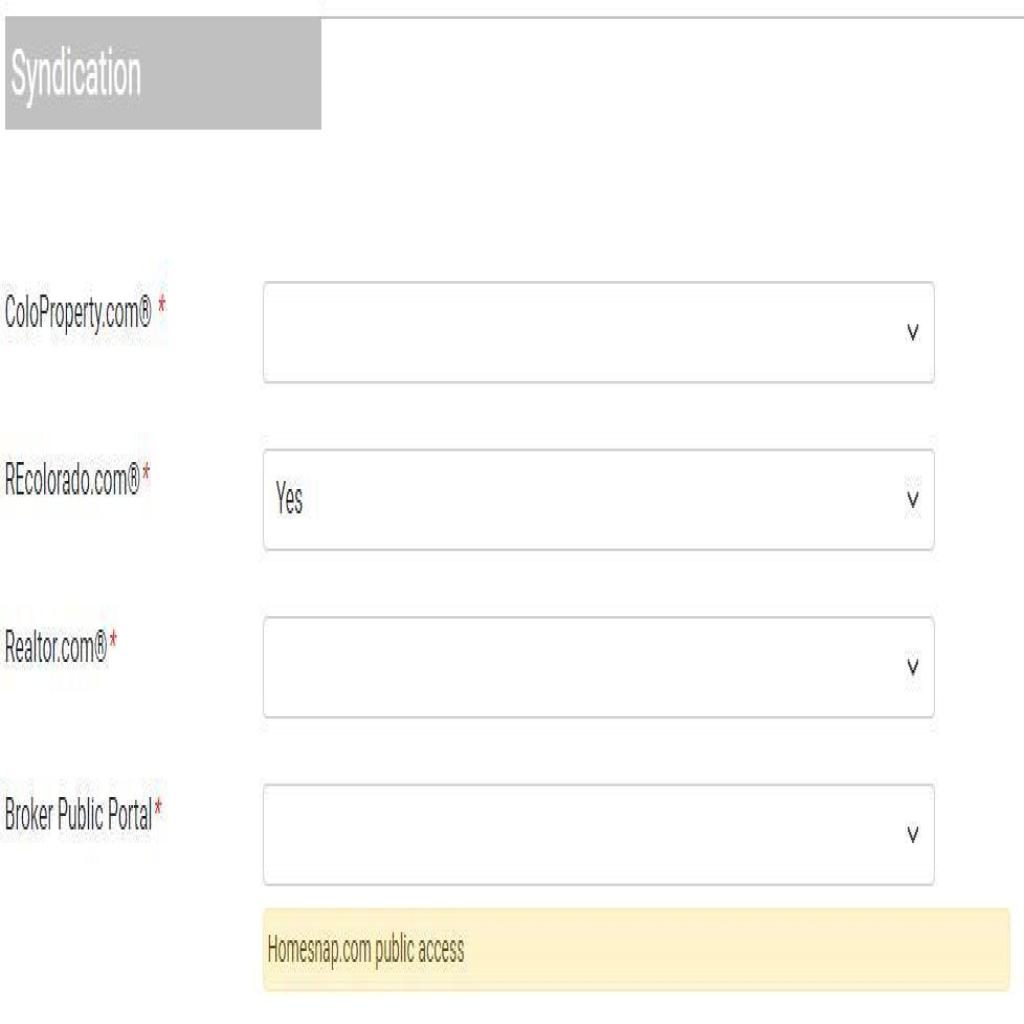dropdown: (265, 451, 937, 554), (263, 284, 935, 384), (263, 783, 934, 881), (262, 619, 934, 716)
label: (5, 14, 155, 130), (5, 260, 171, 352), (5, 435, 156, 511), (4, 784, 169, 848), (3, 619, 122, 675)
